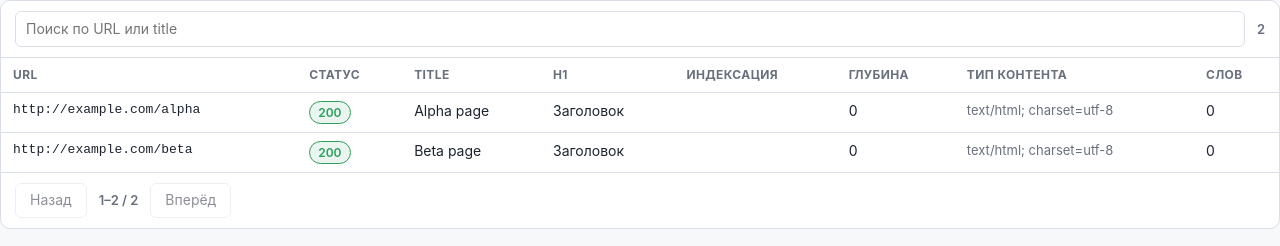
Test: ResultsTable › поиск фильтрует строки по URL/title на клиенте, без loadPages
The image size is (1280, 246).
Type "beta" into the search field with test id "search".
click(630, 29); type("beta")  # box [15,11,1245,47]
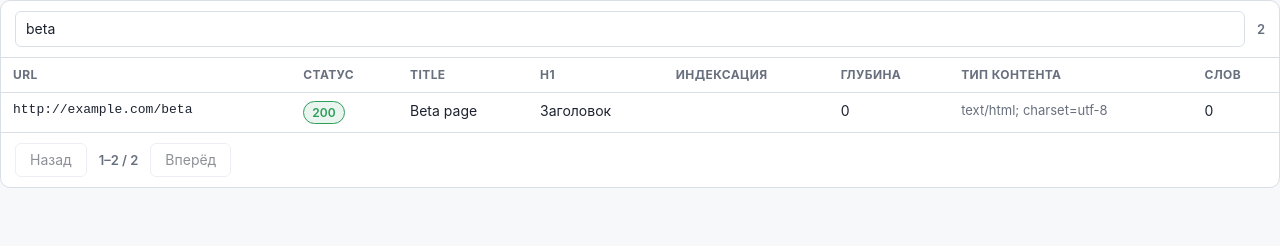
Expected: the cell with test id "cell-url" shows "beta", [13,102,192,117]
Expected: the number of cells with test id "cell-url" is 1, [1,92,291,132]
// по title (регистронезависимо)
Replace the text in the search field with test id "search" with "ALPHA" at (630, 29), box [15,11,1245,47]
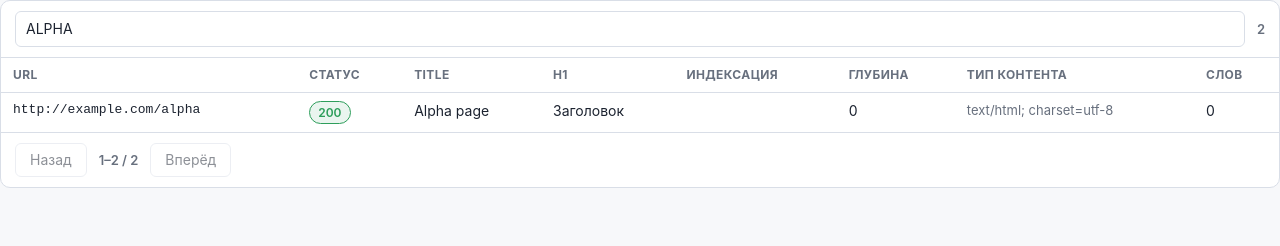
Expected: the number of cells with test id "cell-url" is 1, [1,92,297,132]
Expected: the cell with test id "cell-url" shows "alpha", [13,102,200,117]
Clear the search field with test id "search" at (630, 29), box [15,11,1245,47]
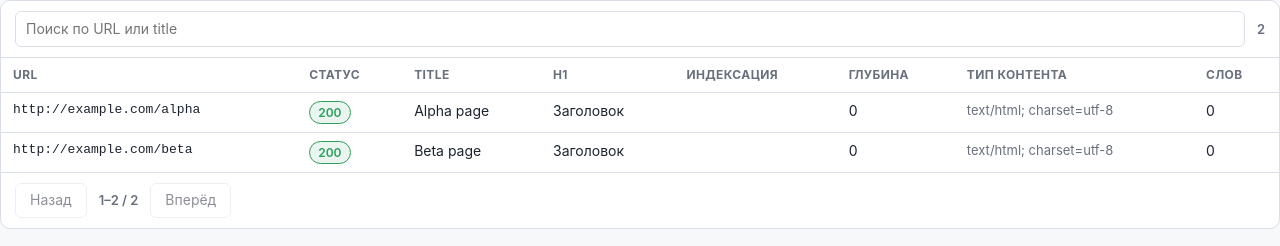
Expected: the number of cells with test id "cell-url" is 2, [1,92,297,133]; [1,133,297,172]
